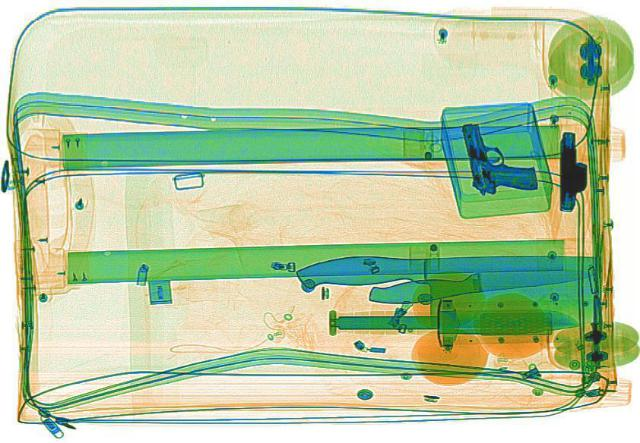Gun: (456, 117, 538, 197), (554, 130, 588, 211)
Knife: (292, 253, 600, 332), (362, 260, 592, 307), (333, 306, 573, 334)
